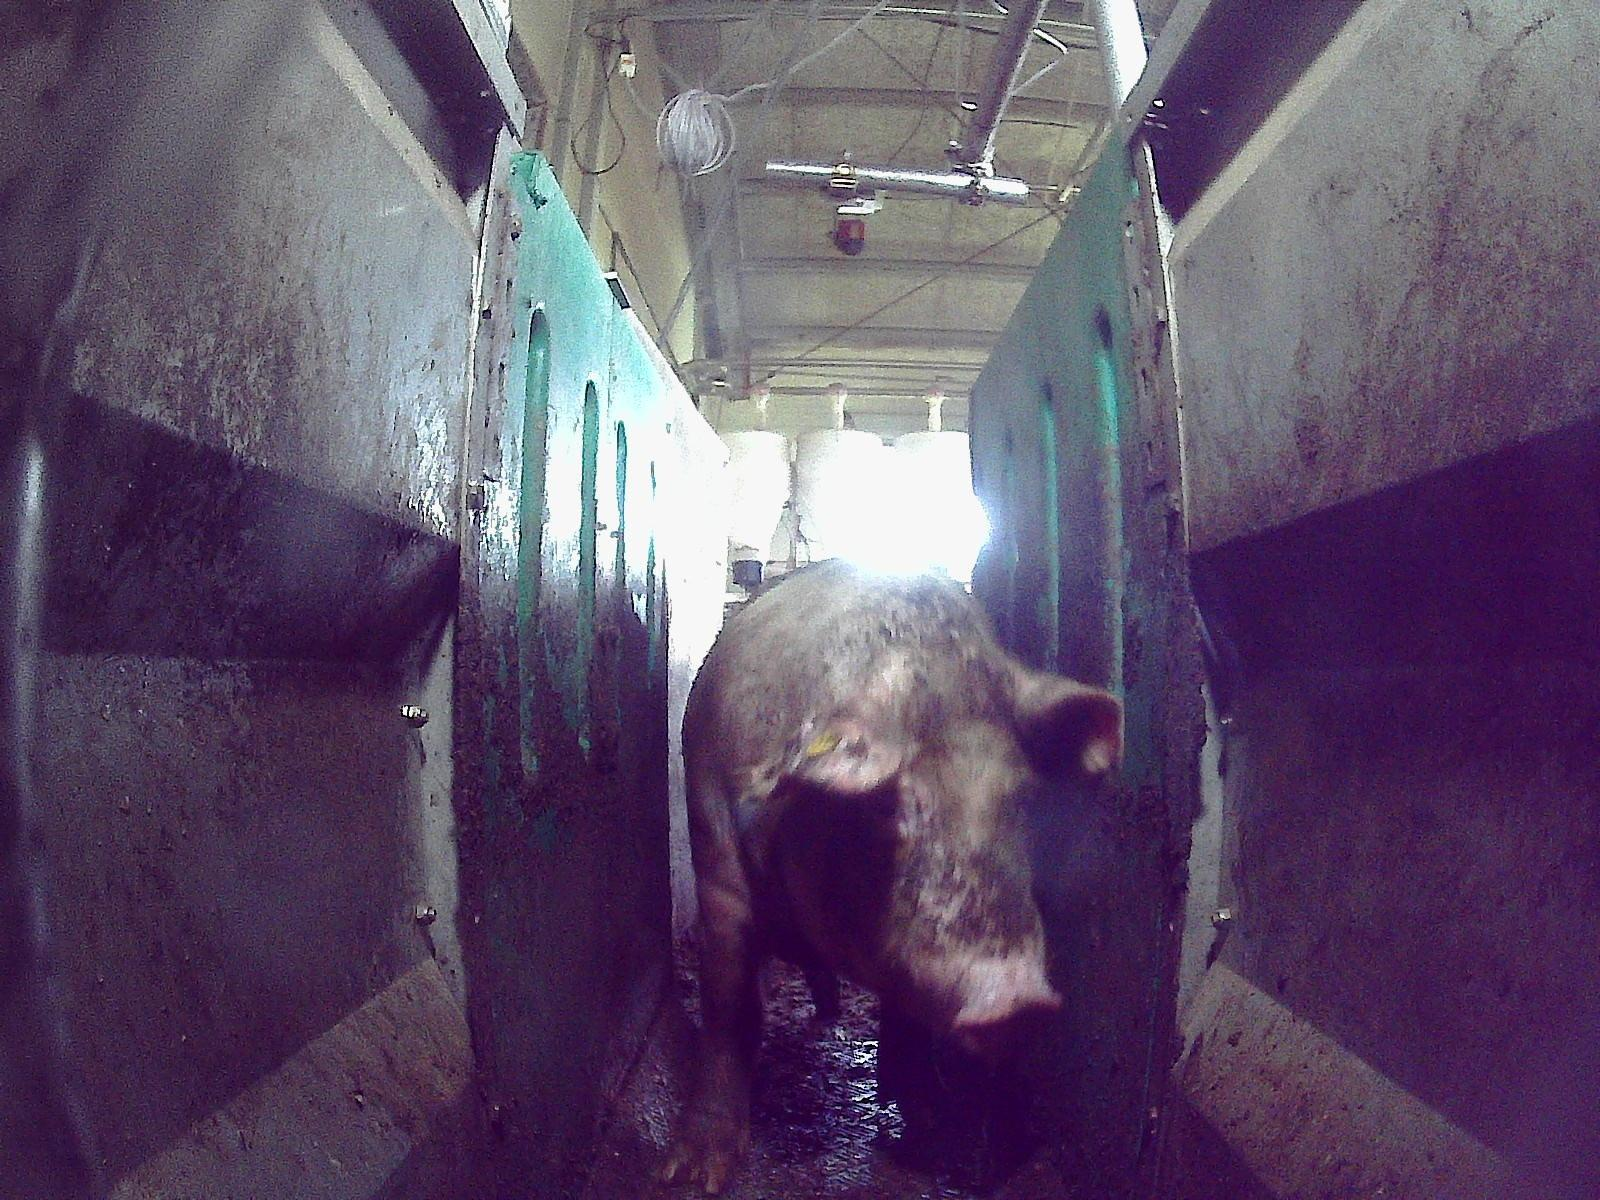Face: (768, 637, 1063, 1065)
